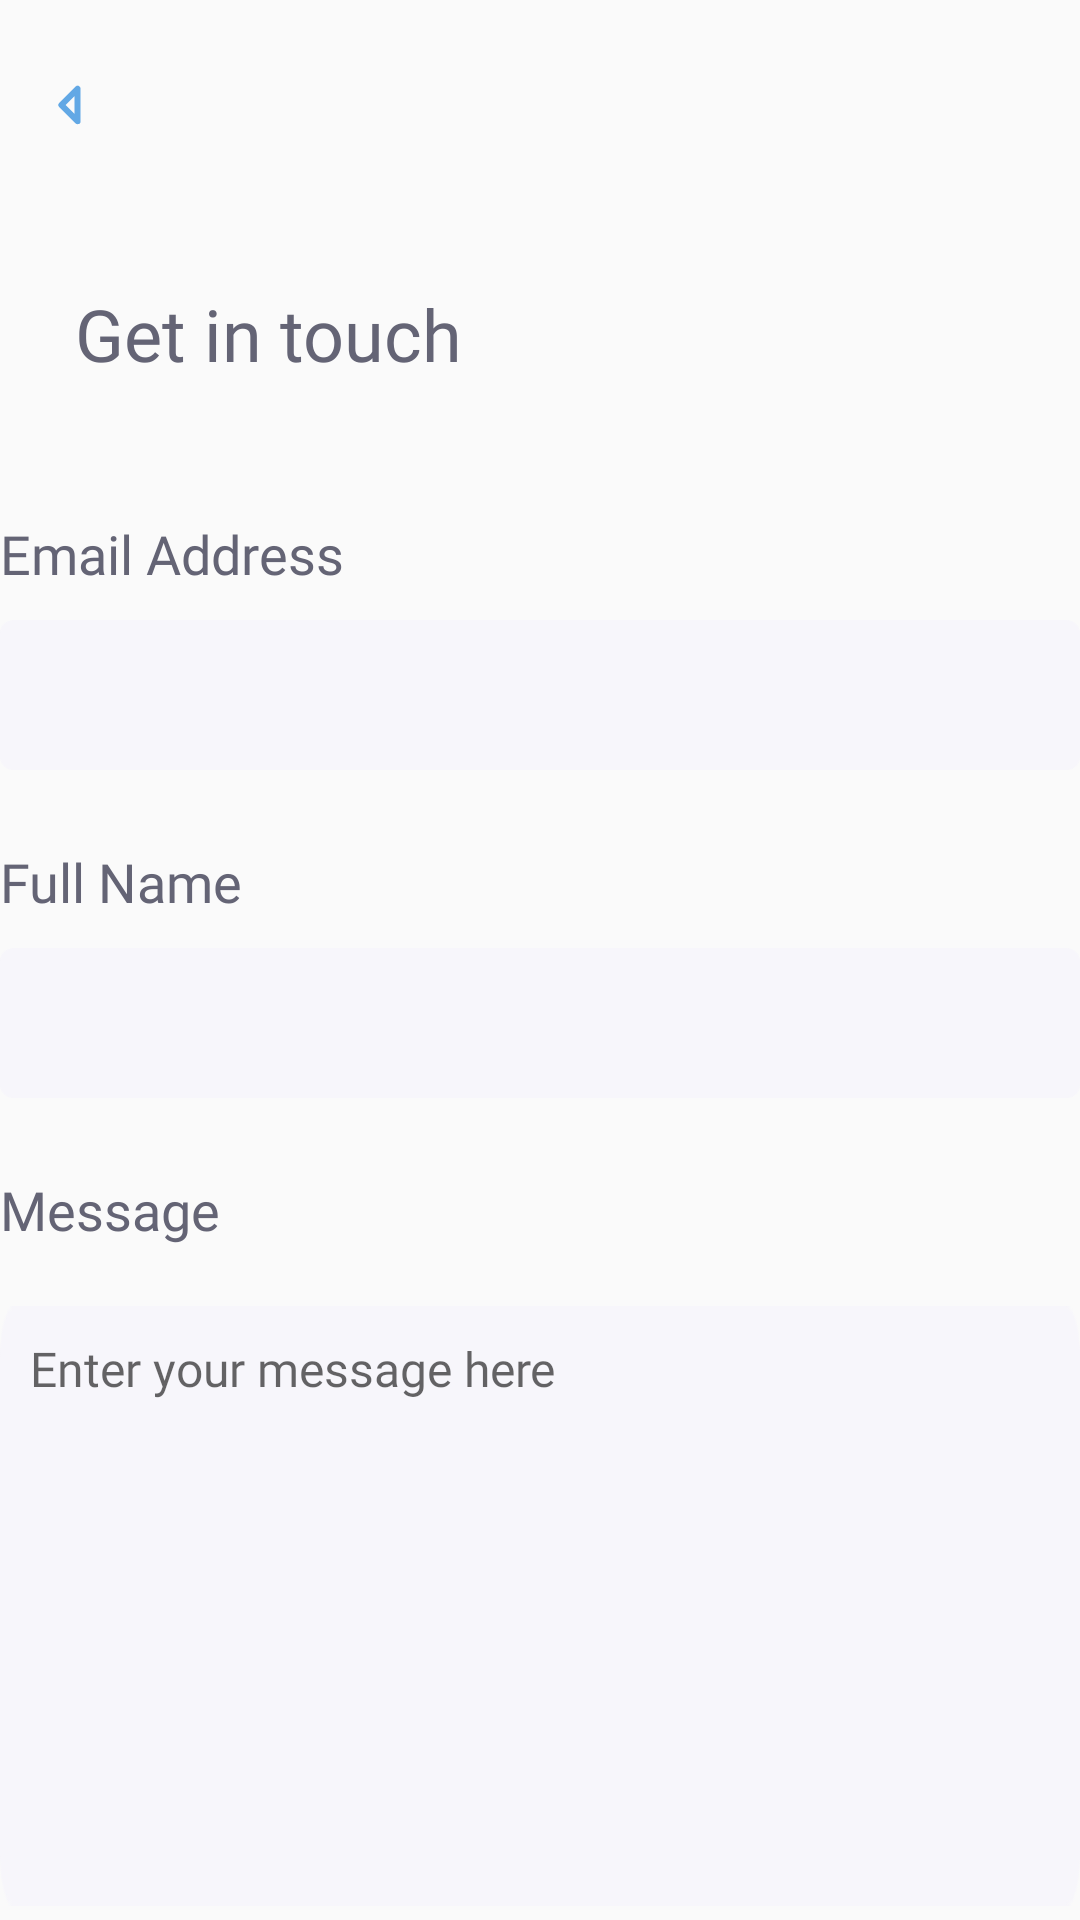

Screen size 1080px×1920px. Icon name, then its box in pixels as (x1, y1, x2, y2):
backbtn: (58, 85, 81, 125)
